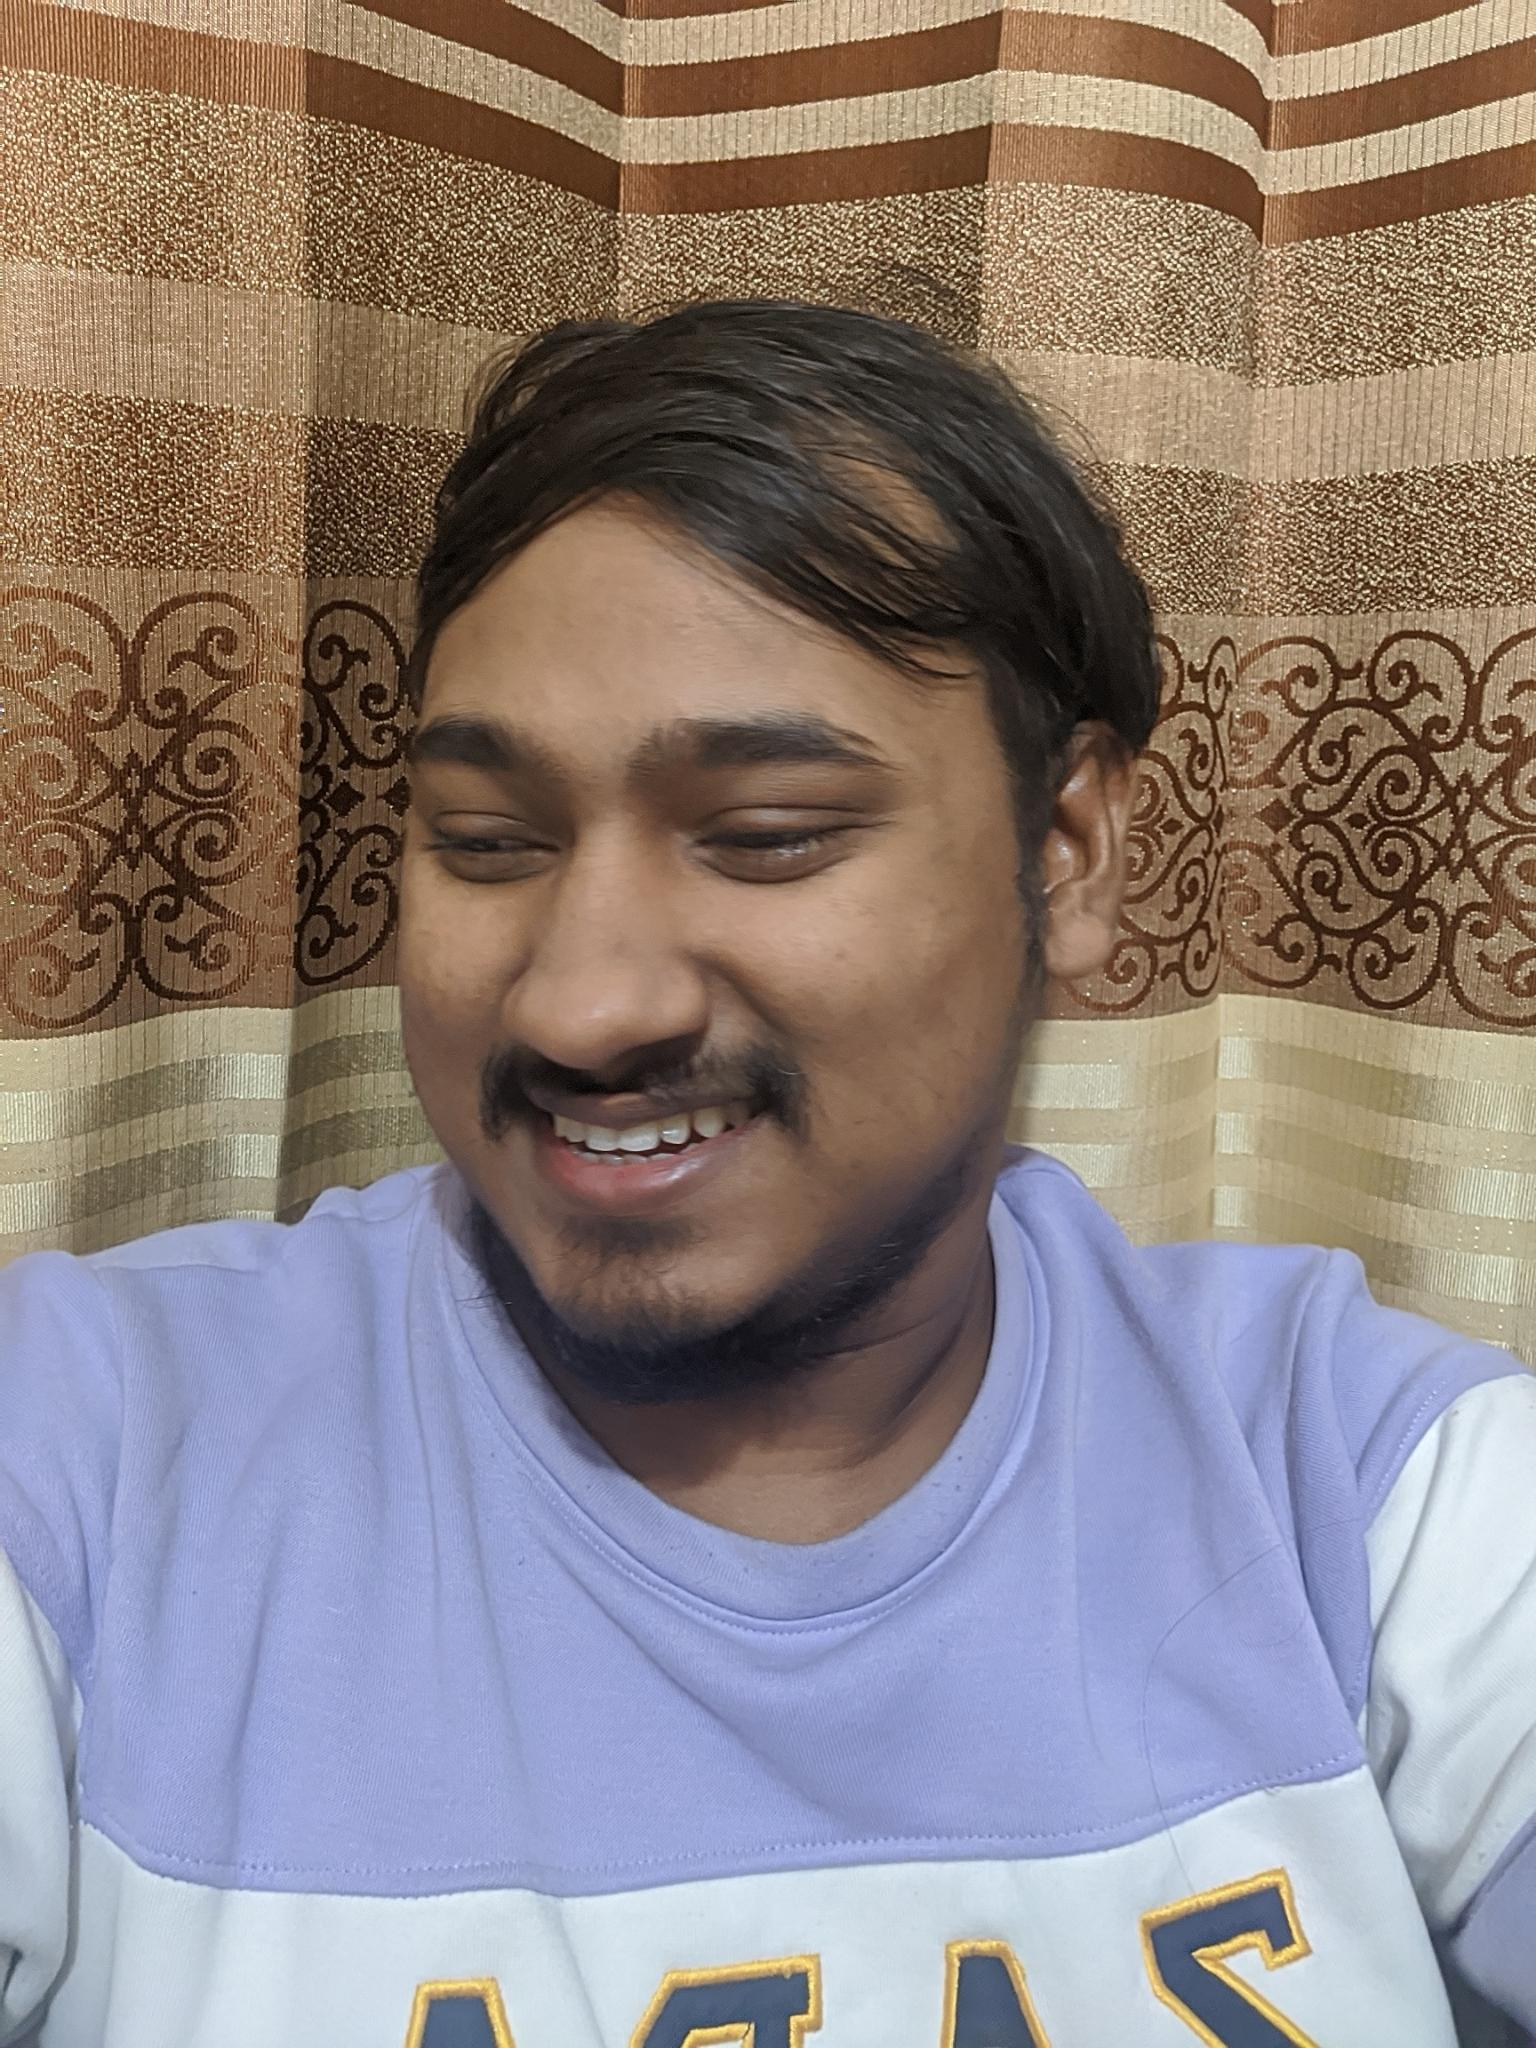Happy: (349, 642, 1034, 1382)
